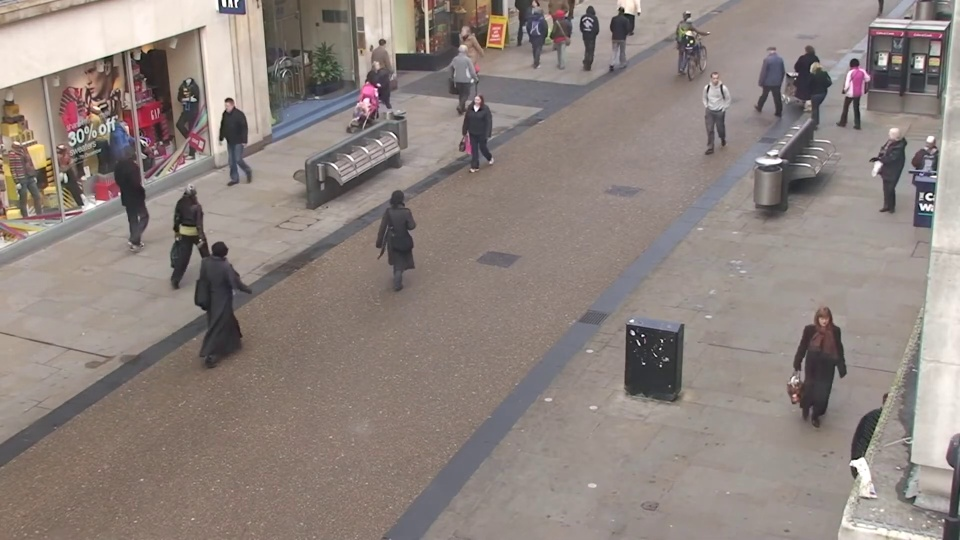pedestrian: (794, 306, 849, 453), (211, 225, 259, 347), (902, 128, 950, 231), (183, 170, 226, 277), (382, 181, 421, 294), (864, 126, 907, 227), (120, 138, 163, 237), (208, 100, 244, 189), (829, 54, 864, 136), (460, 93, 491, 182), (795, 57, 827, 138), (697, 70, 726, 153), (788, 38, 819, 115), (355, 58, 384, 136), (751, 40, 780, 116), (454, 40, 481, 114), (374, 35, 401, 107), (451, 25, 477, 95), (538, 12, 562, 79), (679, 6, 702, 72), (581, 4, 604, 68), (527, 3, 550, 67), (613, 2, 635, 66)
